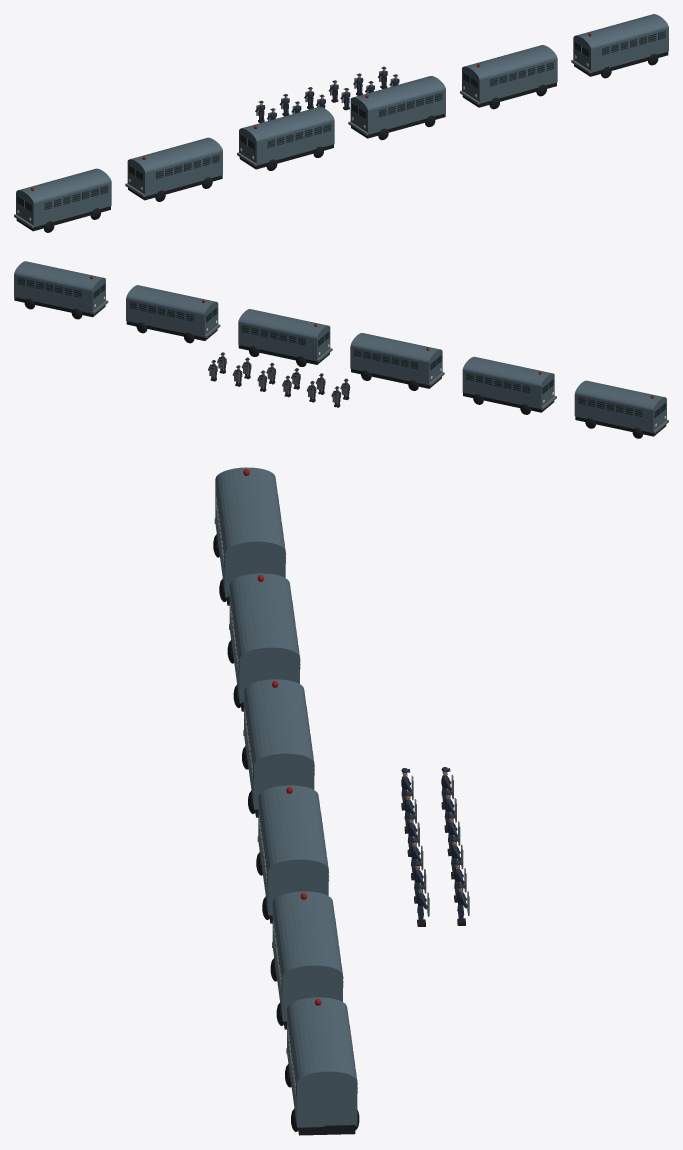
The model's file is KyotoPolice1969.glb.
3 views of the same model, one above another, from view 1: azimuth 30°, elevation 25°; view 2: azimuth 150°, elevation 25°; view 3: azimuth 270°, elevation 25° (orthographic). The views are drawn at different scales.
Visible parts, largest first — view 1: bus@street, glass@street, black@street, steel@street, navy@street; view 2: bus@street, glass@street, black@street, steel@street, navy@street; view 3: bus@street, navy@street, black@street, steel@street.
Boxes of the visible parts, x1,y1,x2,y2 form: bus@street: (16,14,668,227); glass@street: (17,31,665,211); black@street: (16,52,668,232); steel@street: (14,32,665,228); navy@street: (255,66,399,121); bus@street: (14,261,666,432); glass@street: (17,277,665,417); black@street: (14,297,666,438); steel@street: (17,279,668,433); navy@street: (208,352,350,405); bus@street: (215,467,357,1127); navy@street: (401,767,467,923); black@street: (213,534,359,1135); steel@street: (214,495,469,1094).
Bounding box in the file's own units: 57.22 × 3.48 × 10.21.
Materials: 9 (9 with a texture image).
